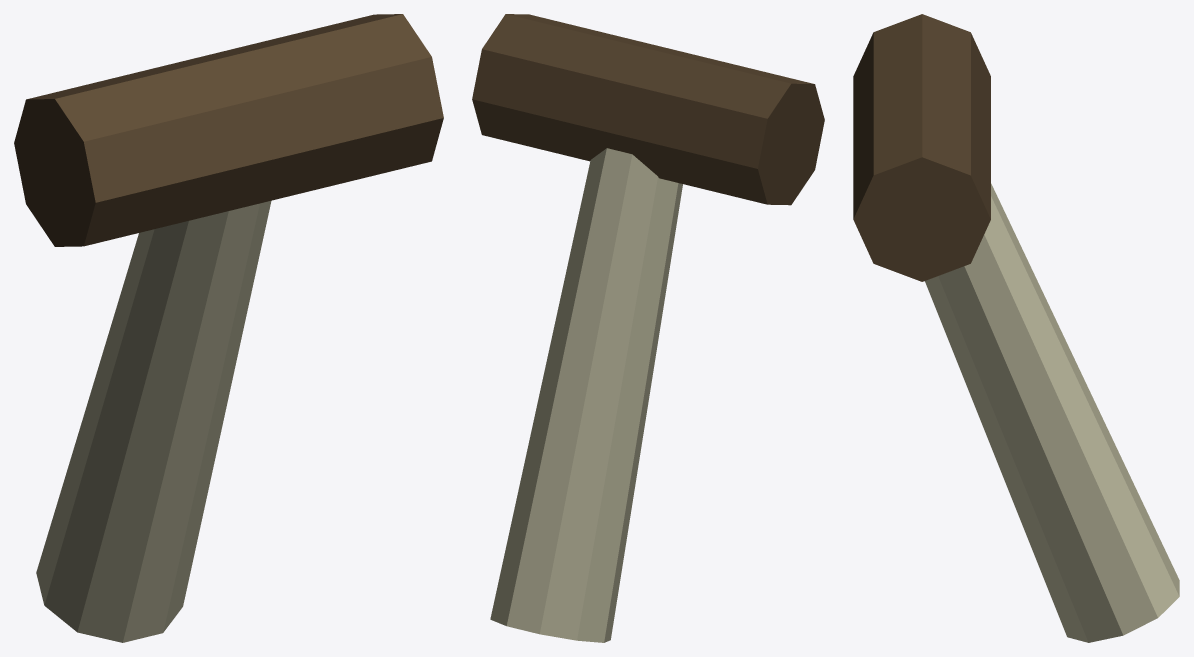
File: strange_arm.glb
3 renders of one model, left to right at view 1: azimuth 30°, elevation 25°; view 2: azimuth 150°, elevation 25°; view 3: azimuth 270°, elevation 25°, orthographic. The views are drawn at different scales.
Visible parts, largest first — view 1: strange_arm; view 2: strange_arm; view 3: strange_arm.
Part boxes in pixels (bbox=[...]): strange_arm: bbox=[14, 14, 443, 642]; strange_arm: bbox=[472, 14, 824, 642]; strange_arm: bbox=[853, 14, 1179, 642].
Bounding box in the file's own units: 0.32 × 0.566 × 0.3081.
